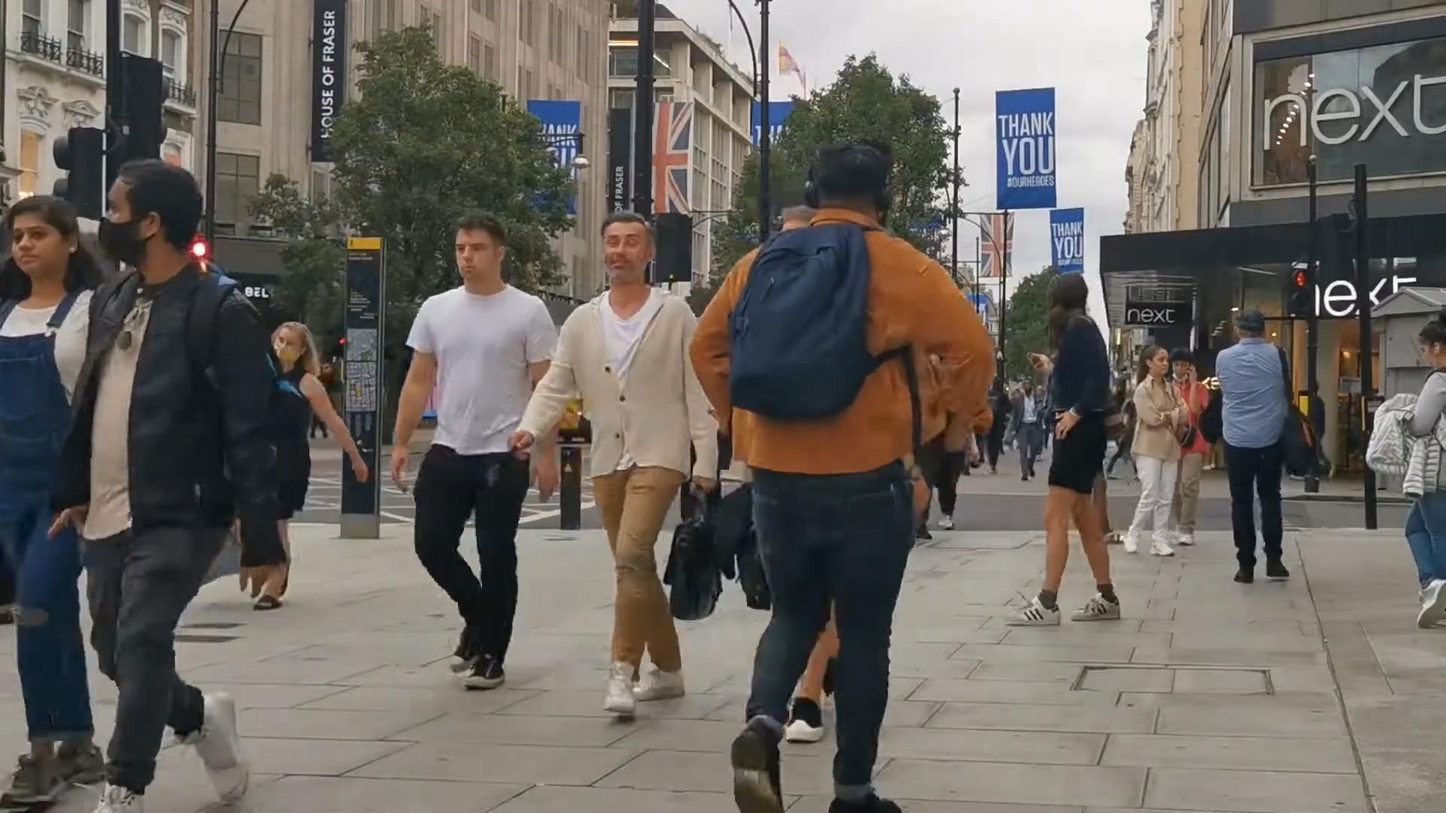no-helmet: (98, 157, 202, 272), (1, 194, 93, 278), (806, 142, 893, 224), (601, 210, 656, 288), (455, 207, 506, 282), (1047, 271, 1088, 345), (270, 321, 318, 369), (1418, 307, 1446, 370), (1136, 343, 1169, 378), (1233, 308, 1266, 339), (1170, 347, 1194, 383)
